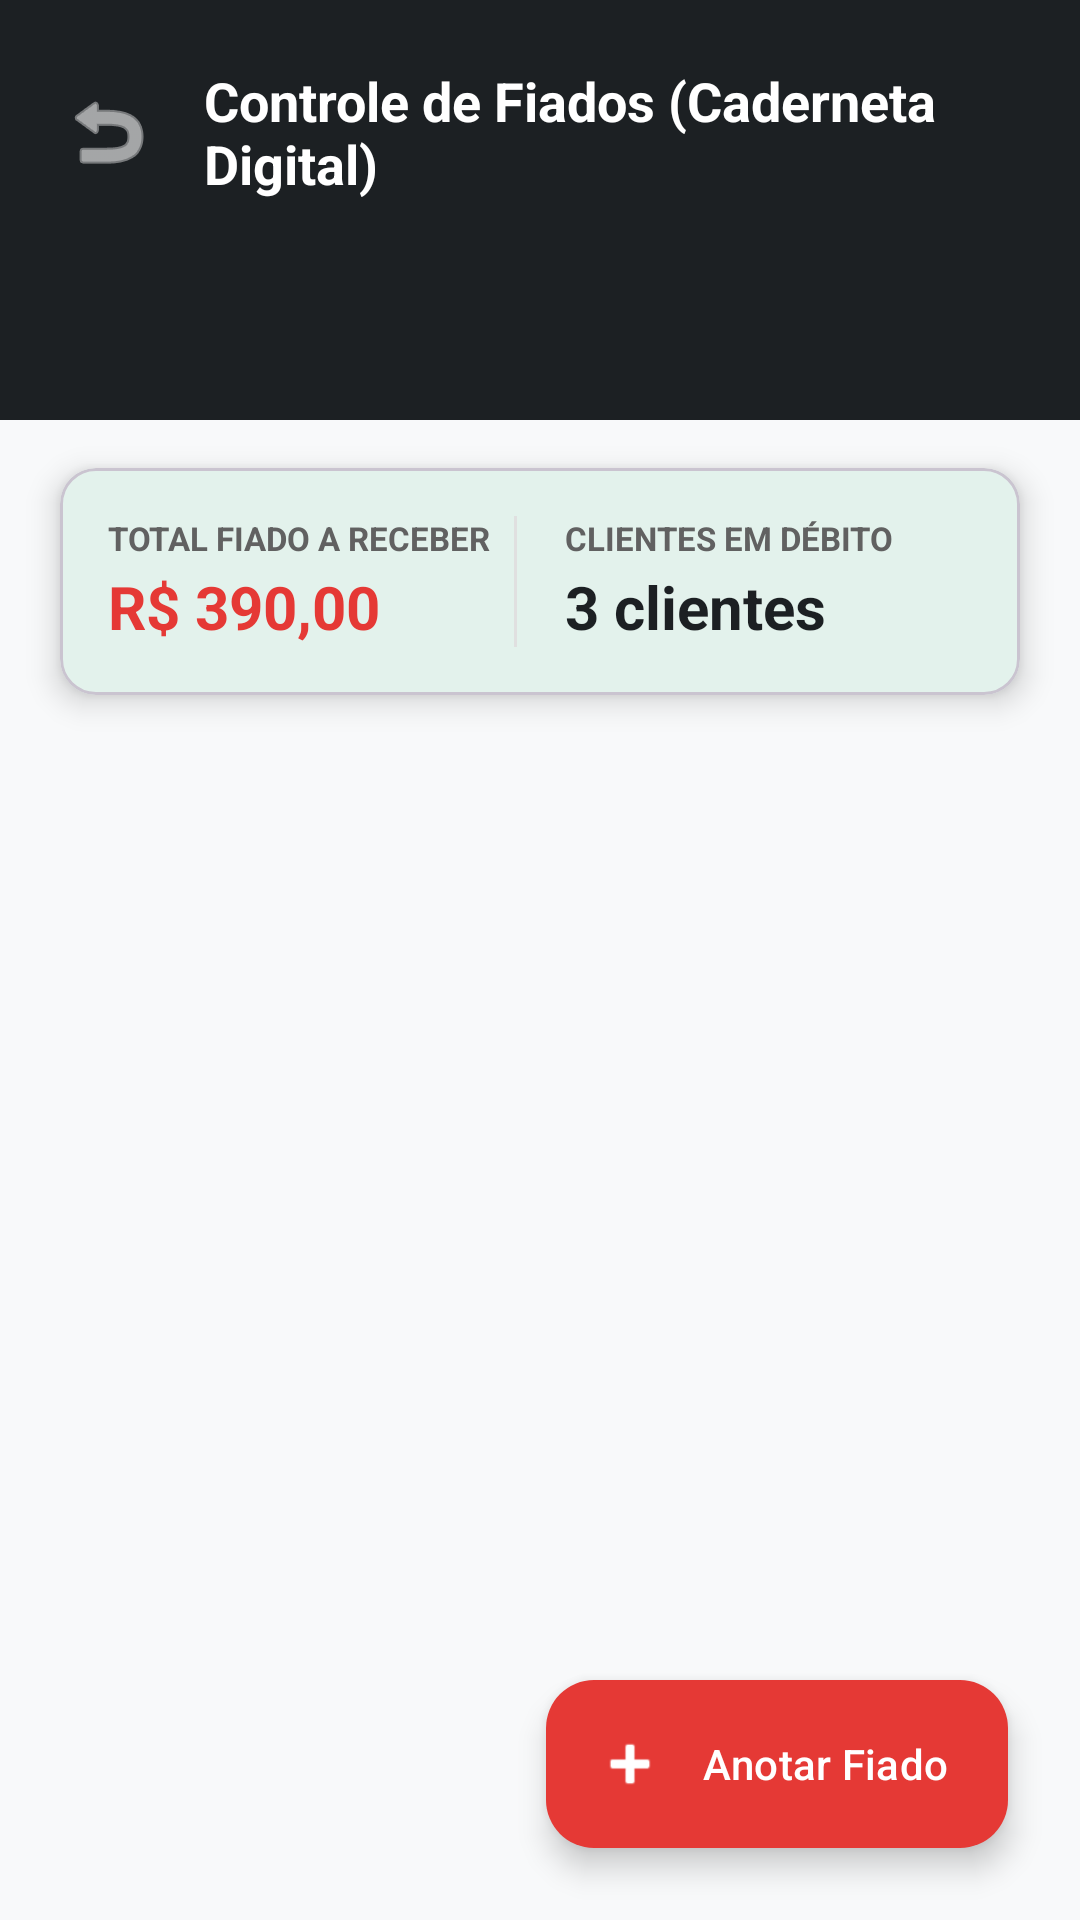

Where icons sit on this 1080 x 1920 app screen, as (x1, y1, x2, y2):
Voltar: (75, 101, 144, 164)
